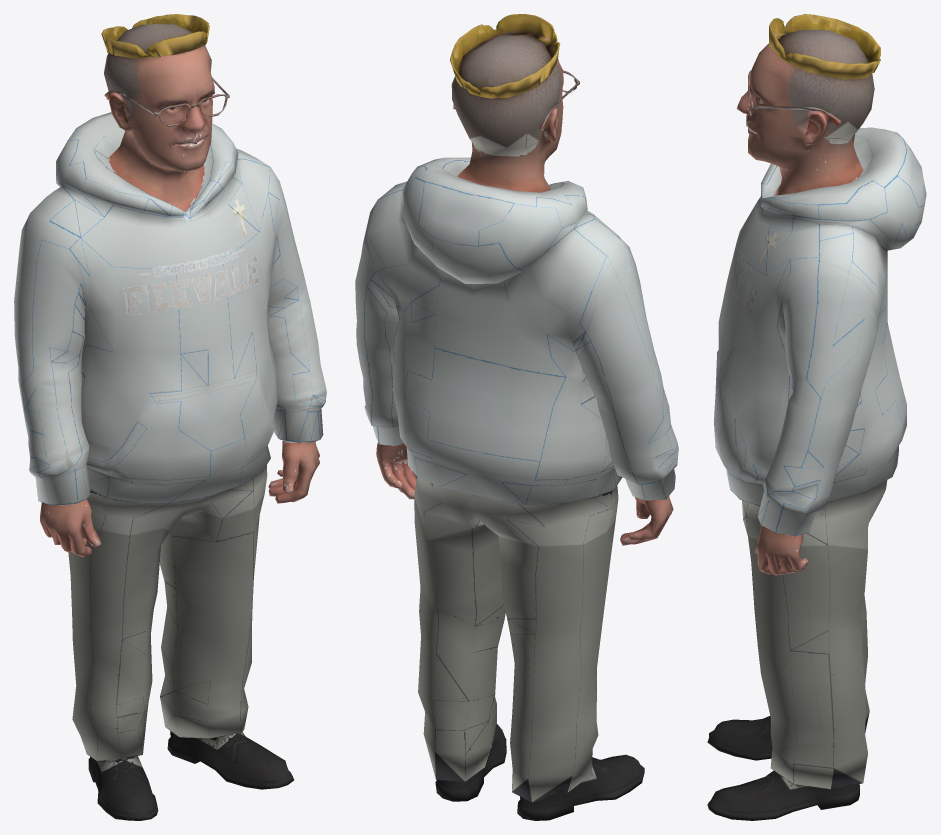
The model's file is selected.glb.
The picture shows the model from 3 angles, left to right: view 1: azimuth 30°, elevation 25°; view 2: azimuth 150°, elevation 25°; view 3: azimuth 270°, elevation 25°; orthographic projection.
Visible parts, largest first — view 1: tripo_node_cb717586-d2af-4dec-9fe1-7107b819e88f; view 2: tripo_node_cb717586-d2af-4dec-9fe1-7107b819e88f; view 3: tripo_node_cb717586-d2af-4dec-9fe1-7107b819e88f.
Boxes of the visible parts, left/top/right/bottom form: tripo_node_cb717586-d2af-4dec-9fe1-7107b819e88f: left=14, top=14, right=326, bottom=820; tripo_node_cb717586-d2af-4dec-9fe1-7107b819e88f: left=355, top=14, right=678, bottom=820; tripo_node_cb717586-d2af-4dec-9fe1-7107b819e88f: left=707, top=14, right=926, bottom=820.
Size of the model in its own units: 0.4121 by 0.998 by 0.2637.
1 material, 1 textured.
